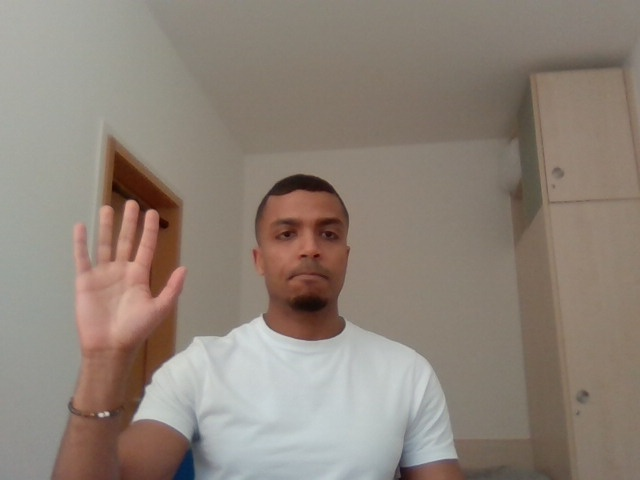hello: (54, 183, 211, 382)
